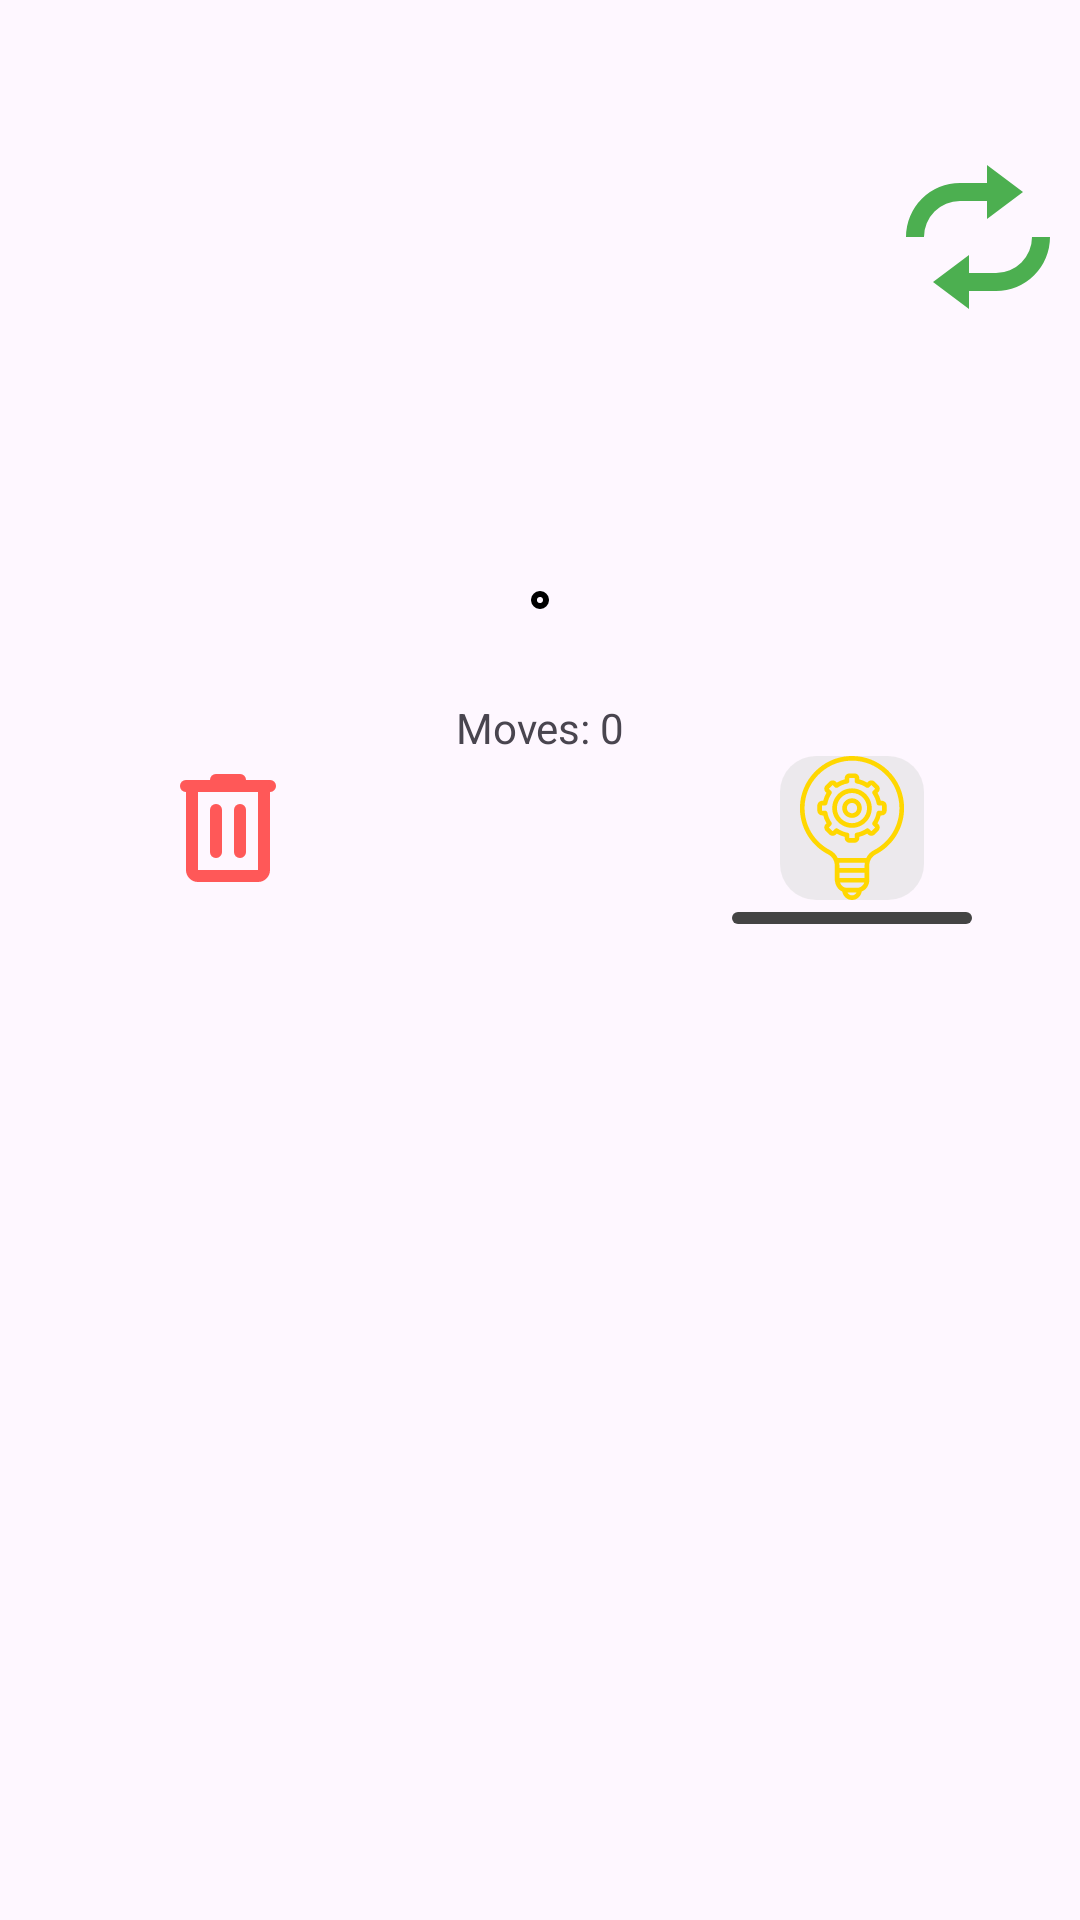

Named icons in this screenshot (1080 x 1920) and their bounding boxes, {"x1": x1, "y1": y1, "x2": x2, "y2": y2}:
bulb: {"x1": 780, "y1": 756, "x2": 924, "y2": 900}
delete: {"x1": 180, "y1": 774, "x2": 276, "y2": 882}
Reset Game: {"x1": 906, "y1": 165, "x2": 1050, "y2": 309}
